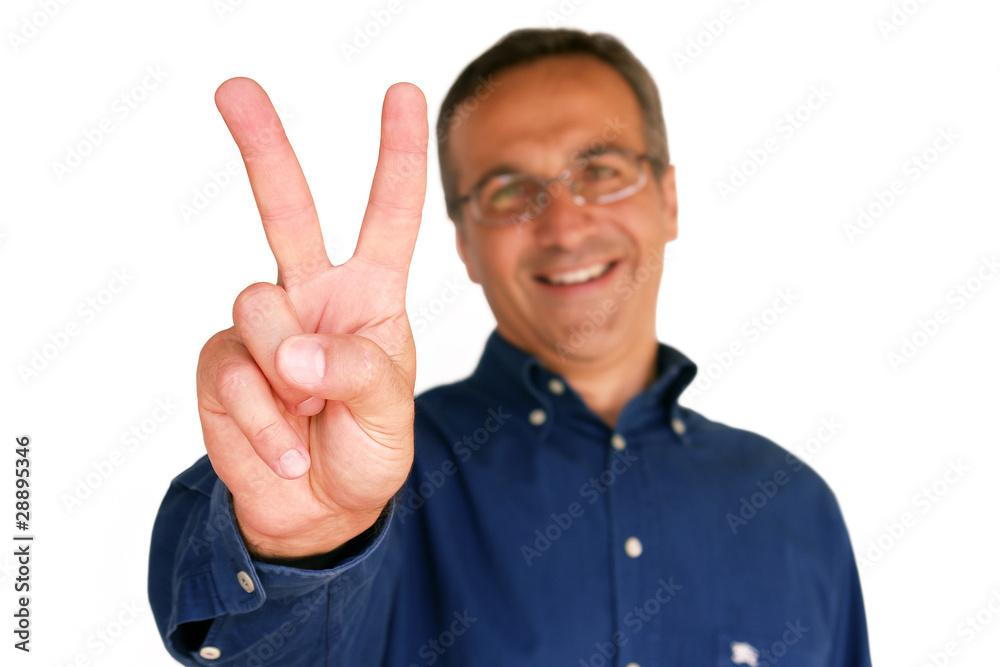peace_sign: (184, 69, 447, 548)
